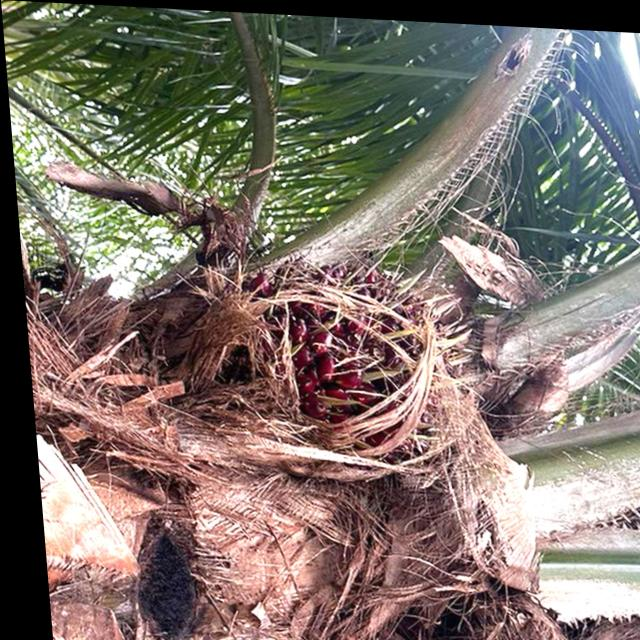ripe: (234, 253, 457, 434)
